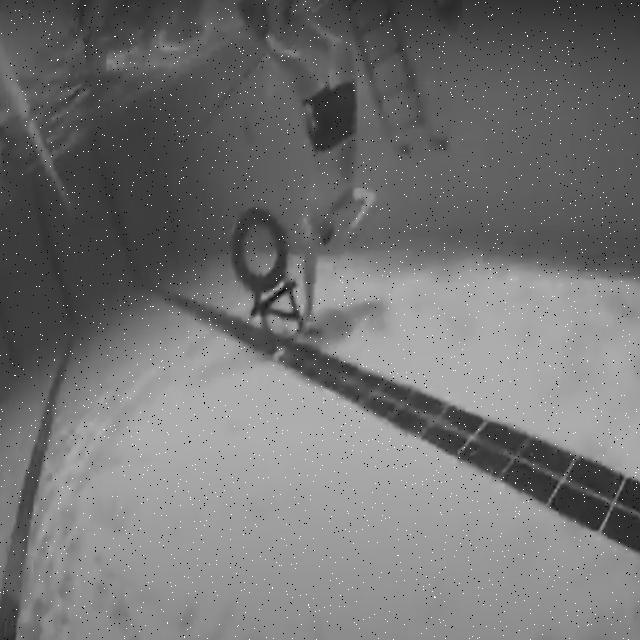Circle: (230, 200, 290, 298)
